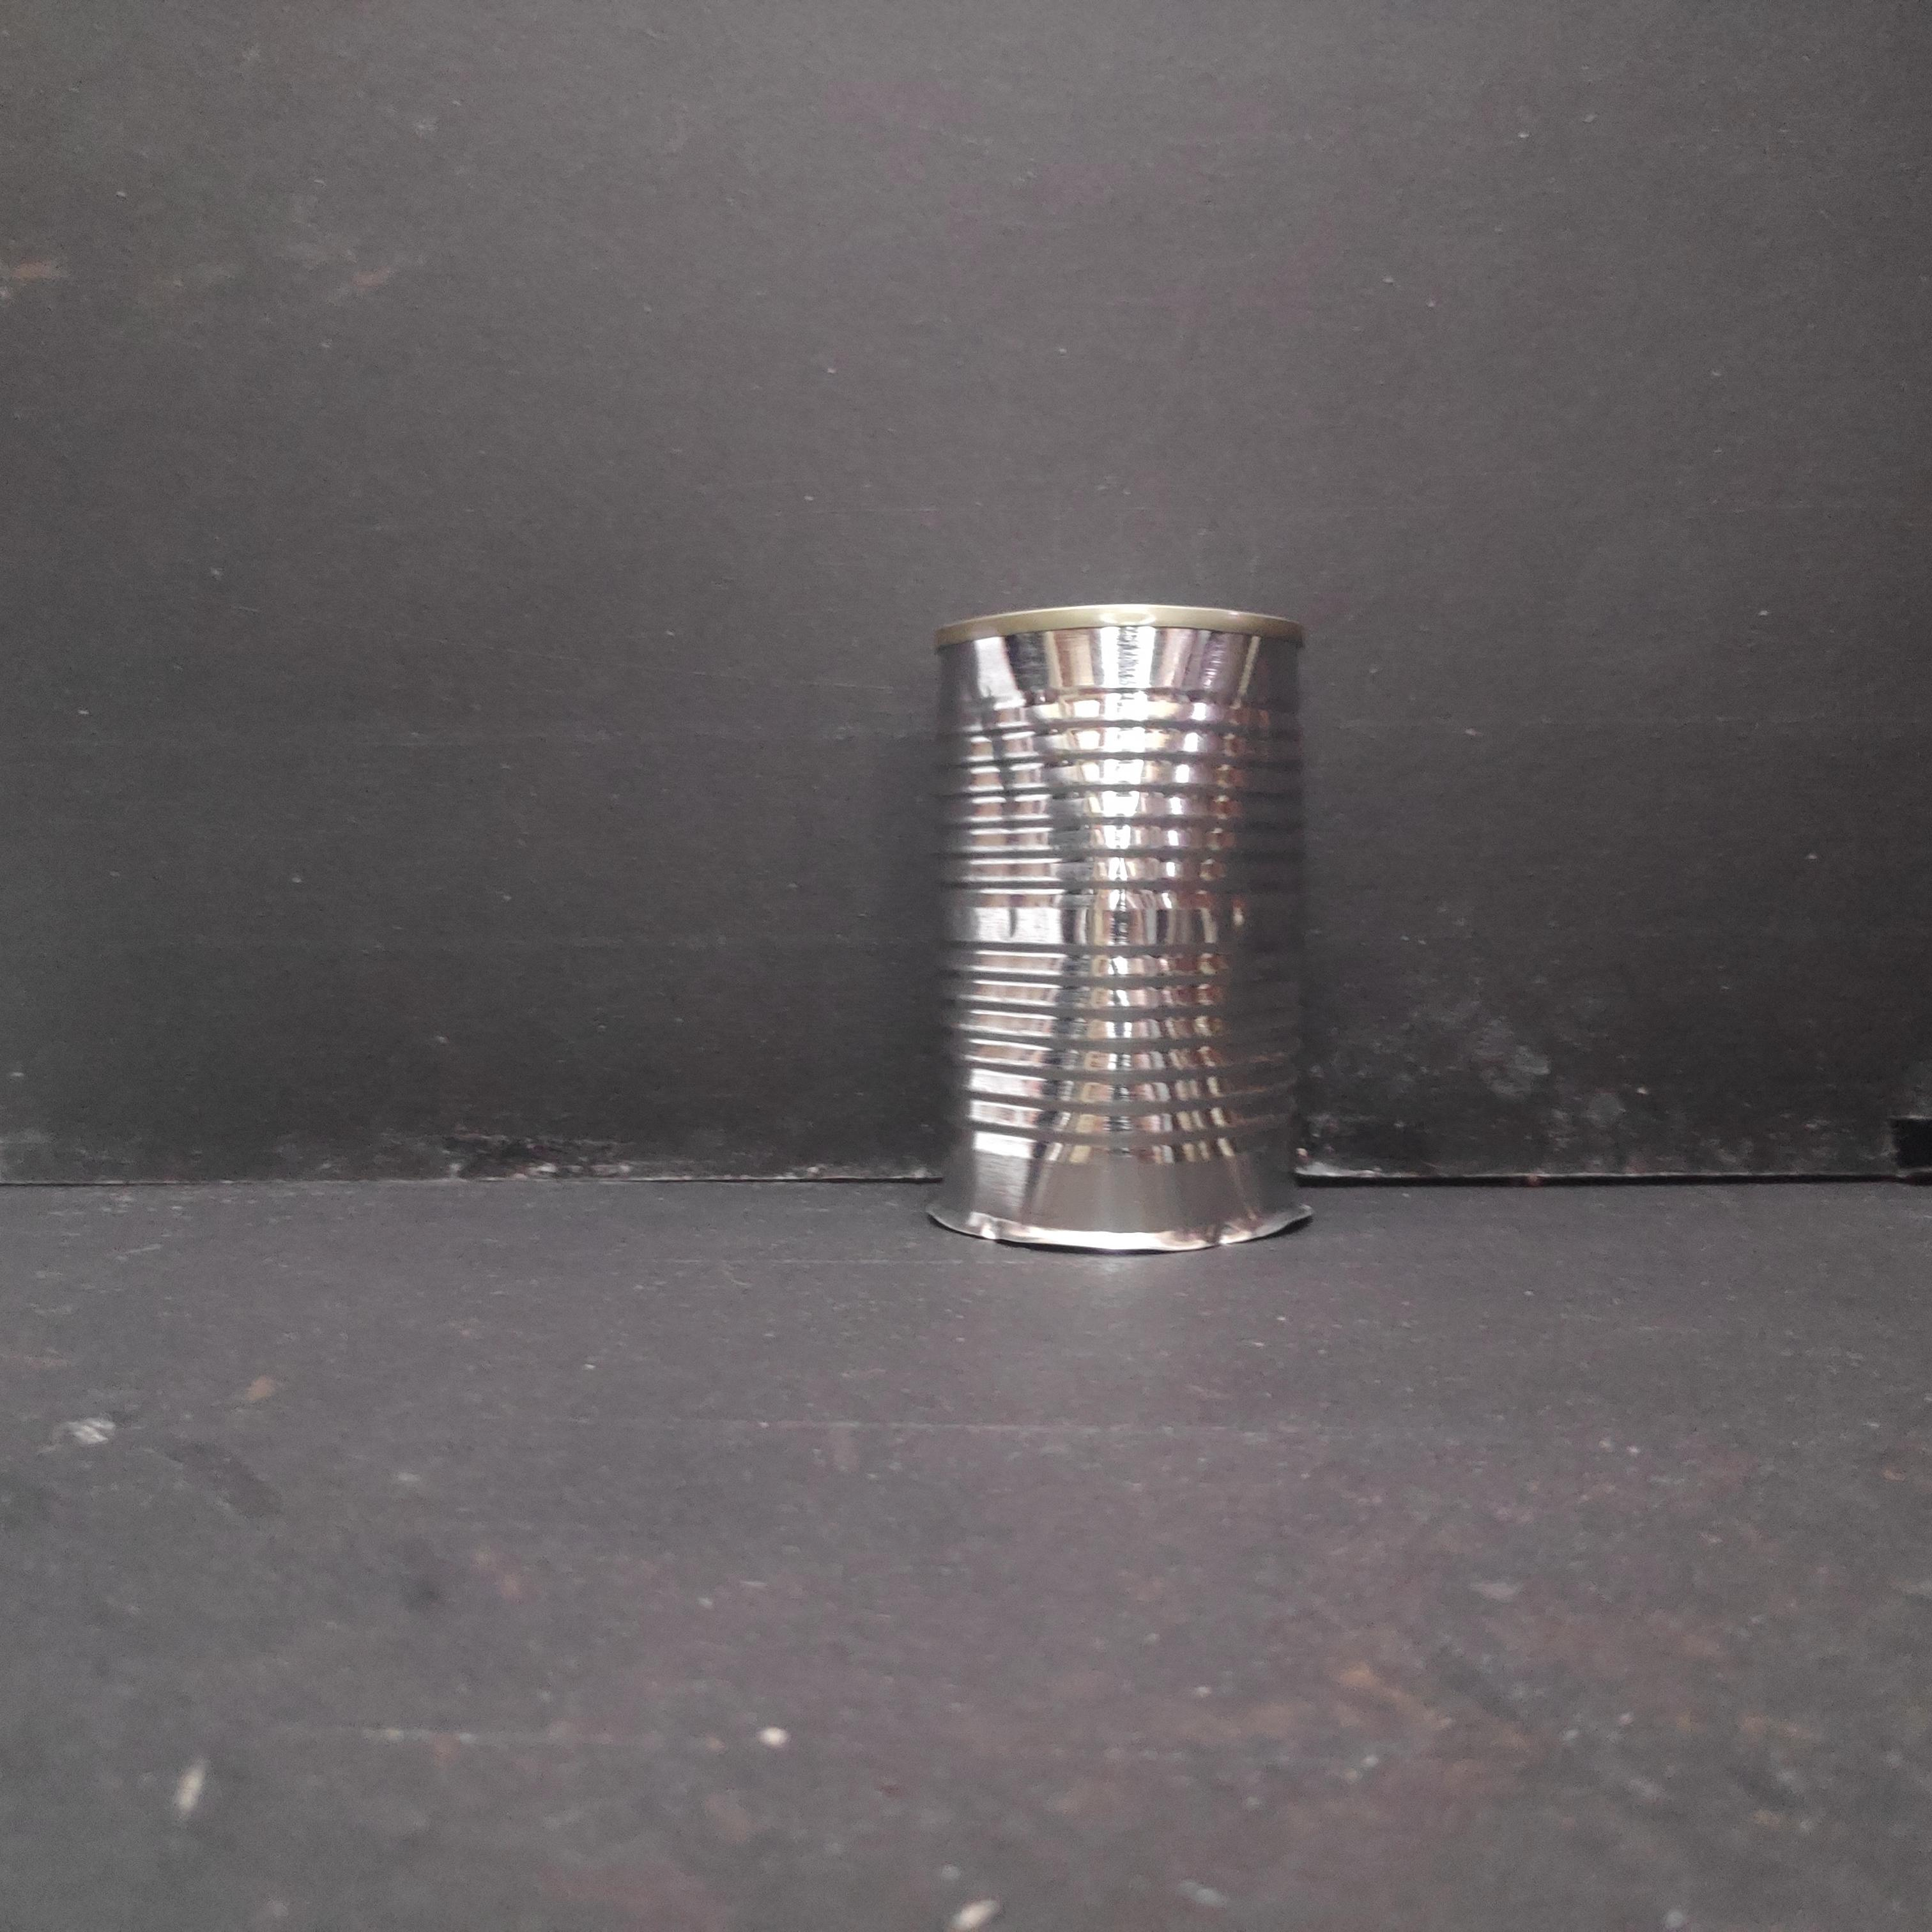Minor Defect: (921, 598, 1331, 1261)
